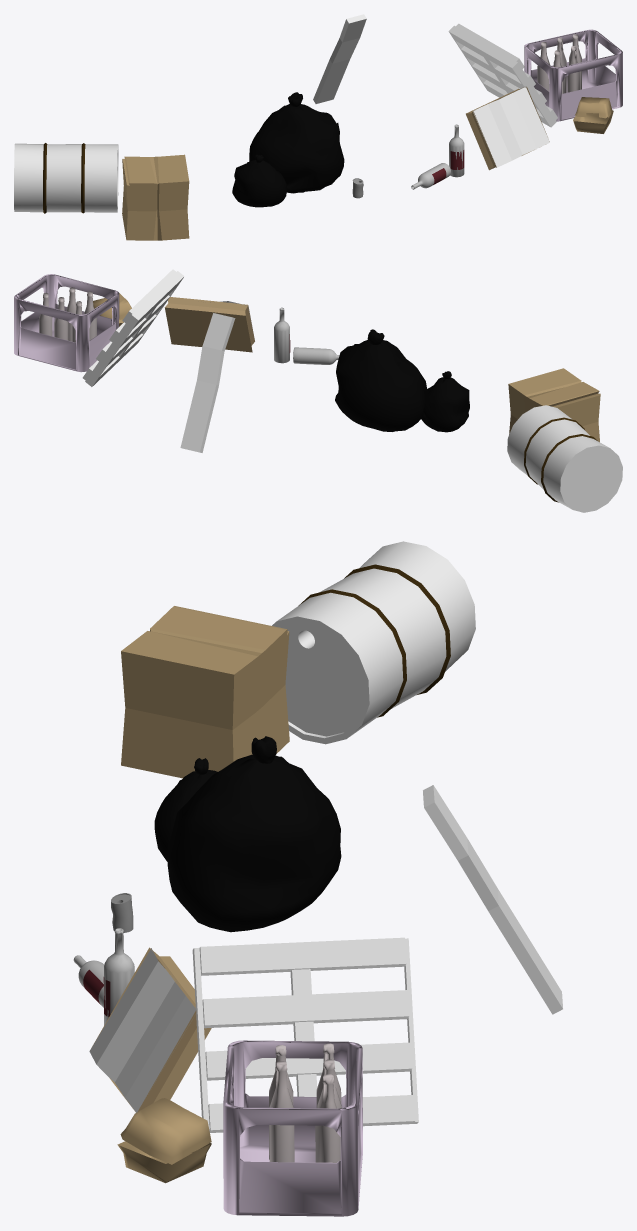
File: shit pack.fbx
The picture shows the model from 3 angles, top to bottom: view 1: azimuth 30°, elevation 25°; view 2: azimuth 150°, elevation 25°; view 3: azimuth 270°, elevation 25°; orthographic projection. The views are drawn at different scales.
Visible parts, largest first — view 1: Cylinder.005, Sphere.009, Cube.024, rdmobj1425.001, Cube.026, Cube.029, Sphere.011, Cube.054, Cube.042, STZ_Wine_bottle_CR01.001, STZ_Wine_bottle_CR01.002, rdmobj639.001 (+1 smaller); view 2: Cylinder.005, Sphere.009, rdmobj1425.001, Cube.024, Cube.026, Cube.054, Cube.029, Sphere.011, STZ_Wine_bottle_CR01.001, STZ_Wine_bottle_CR01.002, Cube.042, rdmobj834.001 (+1 smaller); view 3: Cylinder.005, Sphere.009, Cube.024, Cube.029, rdmobj1425.001, Cube.026, Cube.042, Cube.054, Sphere.011, rdmobj639.001, STZ_Wine_bottle_CR01.001, rdmobj877.001 (+1 smaller).
Boxes of the visible parts, x1,y1,x2,y2 form: Cylinder.005: [14, 143, 118, 213]; Sphere.009: [249, 104, 344, 193]; Cube.024: [122, 154, 189, 240]; rdmobj1425.001: [524, 29, 622, 121]; Cube.026: [466, 86, 549, 170]; Cube.029: [448, 23, 557, 127]; Sphere.011: [232, 160, 287, 207]; Cube.054: [313, 14, 366, 103]; Cube.042: [573, 97, 613, 133]; STZ_Wine_bottle_CR01.001: [449, 124, 464, 177]; STZ_Wine_bottle_CR01.002: [411, 163, 450, 189]; rdmobj639.001: [567, 46, 580, 92]; Cylinder.005: [507, 405, 622, 512]; Sphere.009: [335, 340, 427, 431]; rdmobj1425.001: [14, 274, 119, 372]; Cube.024: [508, 368, 600, 442]; Cube.026: [164, 297, 254, 352]; Cube.054: [180, 313, 235, 452]; Cube.029: [82, 269, 184, 386]; Sphere.011: [421, 377, 469, 432]; STZ_Wine_bottle_CR01.001: [274, 307, 290, 363]; STZ_Wine_bottle_CR01.002: [293, 347, 339, 364]; Cube.042: [93, 293, 131, 326]; rdmobj834.001: [54, 297, 68, 340]; Cylinder.005: [272, 541, 475, 744]; Sphere.009: [167, 754, 341, 932]; Cube.024: [121, 606, 289, 778]; Cube.029: [192, 937, 418, 1132]; rdmobj1425.001: [223, 1040, 362, 1216]; Cube.026: [89, 947, 211, 1112]; Cube.042: [117, 1098, 211, 1183]; Cube.054: [423, 785, 562, 1014]; Sphere.011: [154, 770, 217, 861]; rdmobj639.001: [269, 1061, 294, 1162]; STZ_Wine_bottle_CR01.001: [103, 928, 134, 1025]; rdmobj877.001: [315, 1074, 340, 1162].
Bounding box in the file's own units: 606 × 112 × 222.
